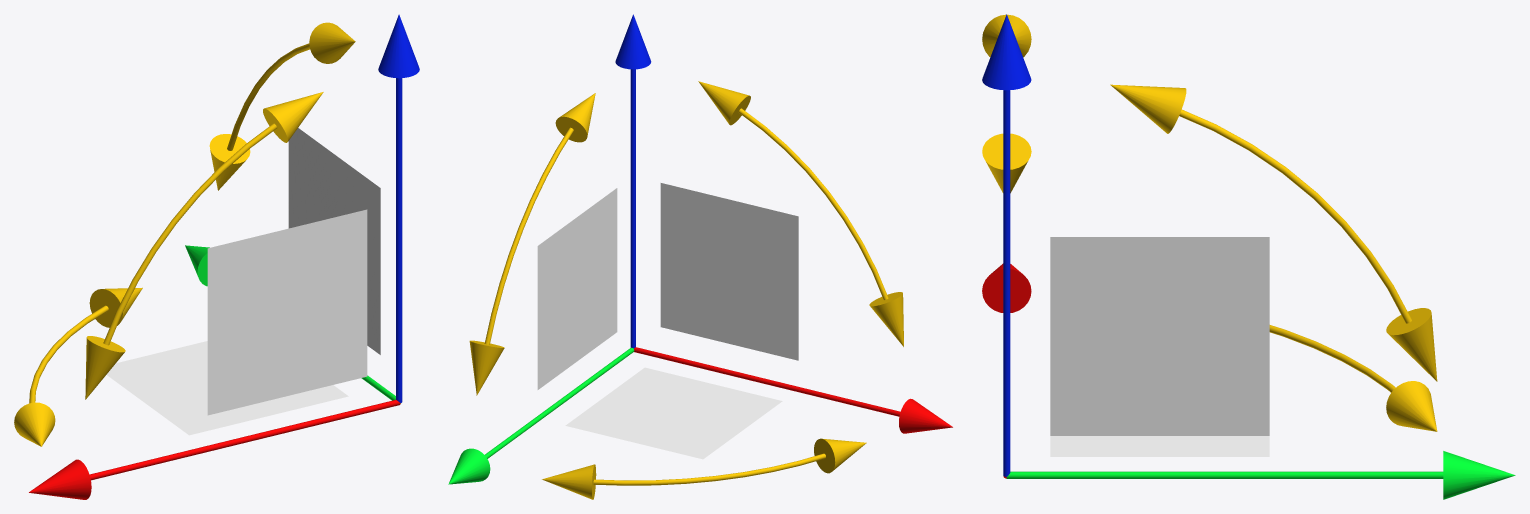
The model's file is GizmoFBX.FBX.
3 views of the same model, side by side, from view 1: azimuth 30°, elevation 25°; view 2: azimuth 150°, elevation 25°; view 3: azimuth 270°, elevation 25° (orthographic). The views are drawn at different scales.
Visible parts, largest first — view 1: Ebene_XZ, Ebene_XY, Ebene_YZ, Rotate_XZ, Z_Achse, X_Achse, Rotate_YZ, Rotate_XY, Y_Achse; view 2: Ebene_XZ, Ebene_YZ, Ebene_XY, Rotate_XZ, Rotate_XY, Rotate_YZ, Z_Achse, X_Achse, Y_Achse; view 3: Ebene_YZ, Rotate_YZ, Y_Achse, Z_Achse, Ebene_XY, Rotate_XY, Rotate_XZ, X_Achse.
Part boxes in pixels (x1=…): Ebene_XZ: x1=207, y1=209, x2=367, y2=415; Ebene_XY: x1=106, y1=341, x2=348, y2=435; Ebene_YZ: x1=288, y1=128, x2=380, y2=354; Rotate_XZ: x1=85, y1=92, x2=323, y2=399; Z_Achse: x1=378, y1=14, x2=419, y2=402; X_Achse: x1=29, y1=400, x2=400, y2=499; Rotate_YZ: x1=209, y1=22, x2=355, y2=190; Rotate_XY: x1=14, y1=287, x2=142, y2=446; Y_Achse: x1=185, y1=245, x2=395, y2=400; Ebene_XZ: x1=660, y1=183, x2=798, y2=360; Ebene_YZ: x1=537, y1=188, x2=617, y2=389; Ebene_XY: x1=565, y1=367, x2=782, y2=459; Rotate_XZ: x1=698, y1=81, x2=903, y2=346; Rotate_XY: x1=542, y1=438, x2=866, y2=499; Rotate_YZ: x1=469, y1=93, x2=595, y2=395; Z_Achse: x1=615, y1=14, x2=651, y2=348; X_Achse: x1=634, y1=347, x2=952, y2=433; Y_Achse: x1=448, y1=347, x2=634, y2=484; Ebene_YZ: x1=1050, y1=237, x2=1269, y2=435; Rotate_YZ: x1=1110, y1=84, x2=1437, y2=381; Y_Achse: x1=1006, y1=451, x2=1515, y2=499; Z_Achse: x1=982, y1=14, x2=1031, y2=476; Ebene_XY: x1=1050, y1=436, x2=1269, y2=456; Rotate_XY: x1=1269, y1=325, x2=1437, y2=431; Rotate_XZ: x1=982, y1=14, x2=1031, y2=193; X_Achse: x1=982, y1=263, x2=1031, y2=478.
Size of the model in its own units: 36.7 by 36.71 by 36.7.
